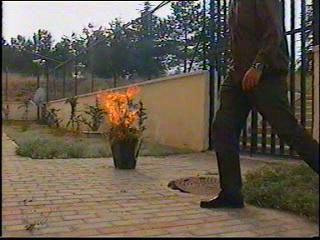fire: (95, 81, 144, 128)
